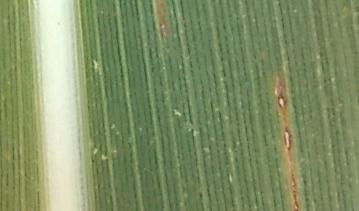tarspot: (89, 157, 96, 164)
